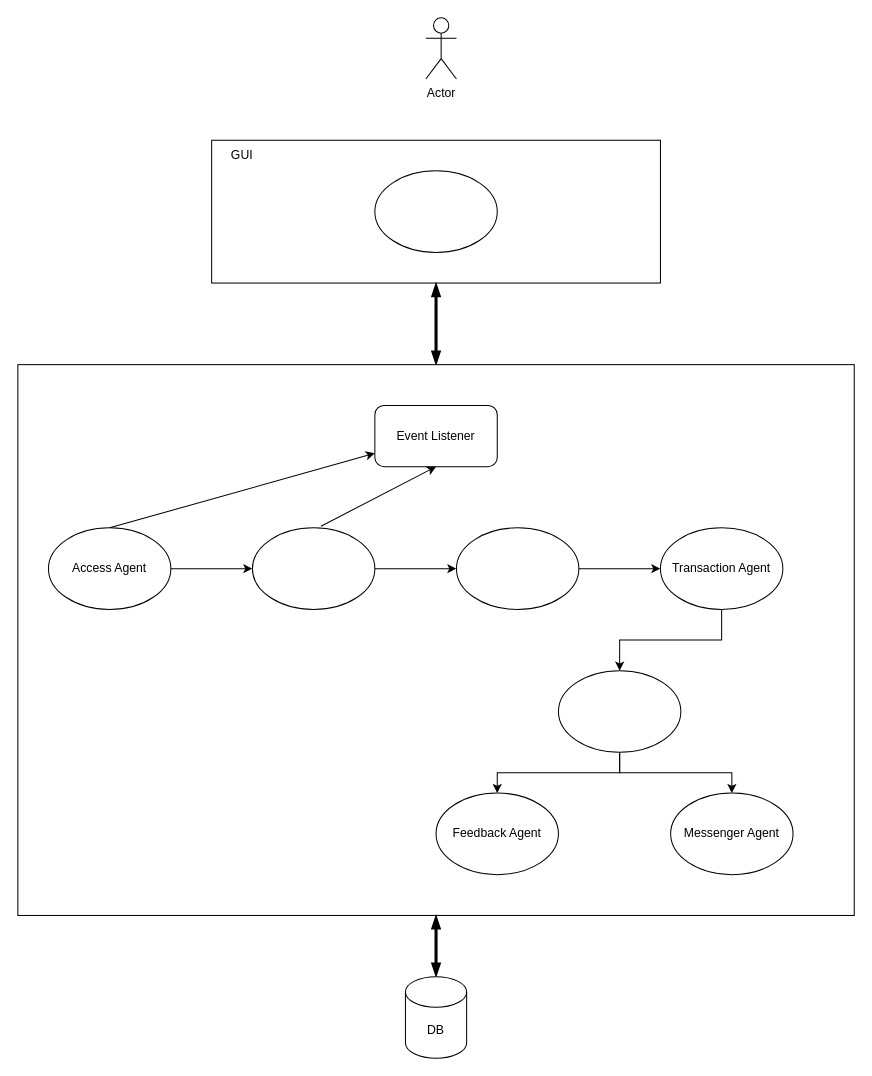
Image size: 872x1076. Some labels were removed from this diagram. The centre of each missing label's shape, as x and y in pixels:
Booking Agent: the point at 517,568
Monitoring Agent: the point at 619,711
Presenter Agent: the point at 435,211
Seach Agent: the point at 313,568
